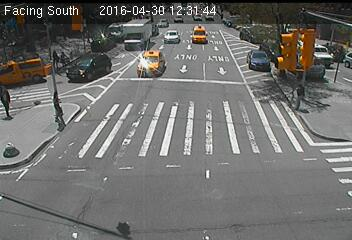neg: (89, 90, 112, 122), (229, 136, 249, 163), (136, 166, 156, 192), (294, 8, 314, 34), (314, 172, 332, 197), (58, 147, 76, 171), (274, 156, 291, 178), (98, 163, 114, 183), (13, 6, 28, 26), (219, 91, 233, 110), (23, 125, 37, 144), (14, 44, 28, 62), (166, 87, 179, 104), (169, 117, 182, 134), (149, 12, 162, 29), (116, 10, 127, 26), (229, 43, 240, 58), (188, 29, 199, 44), (194, 179, 205, 194), (316, 135, 326, 148), (51, 6, 61, 19)
pos: (287, 80, 311, 112), (47, 88, 69, 117), (49, 49, 62, 66), (57, 48, 68, 62)
